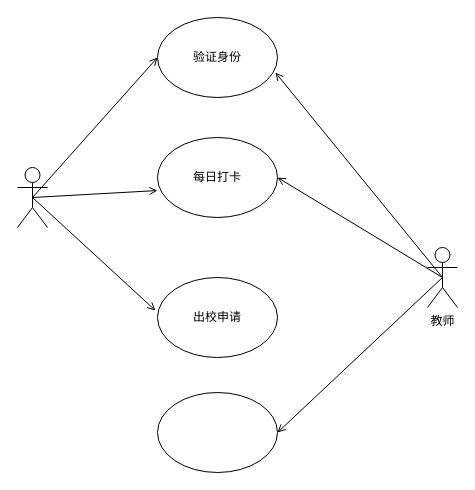
This 475x490 diagram has some shape labels left out. The box of each missing label's shape, as (x1, y1, x2, y2) in pixels:
出校审批: (156, 392, 278, 472)
学生: (16, 166, 48, 228)
